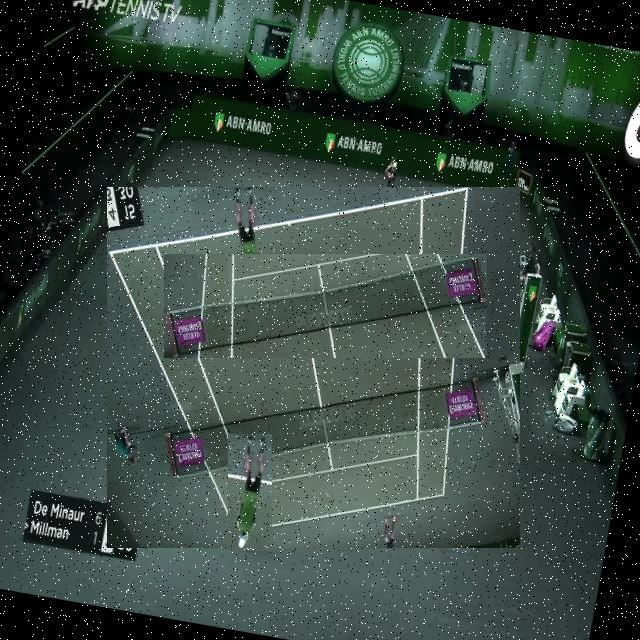court: (107, 187, 520, 548)
net: (164, 254, 487, 358)
player: (228, 434, 272, 551)
